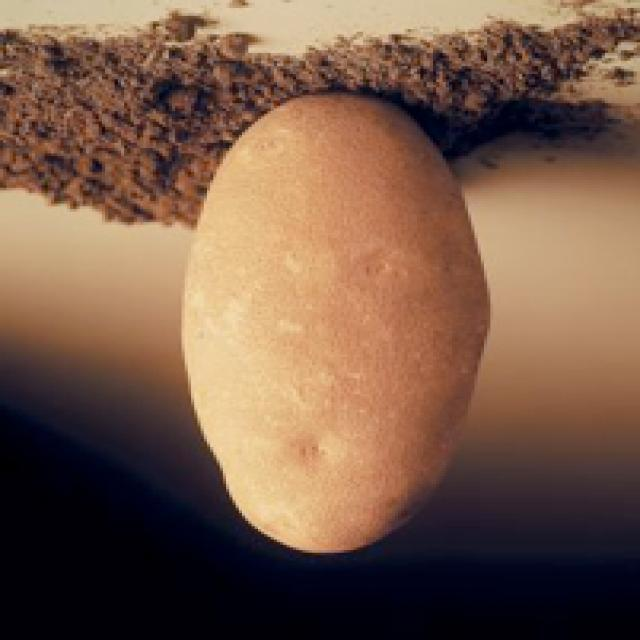potato: (185, 95, 490, 553)
